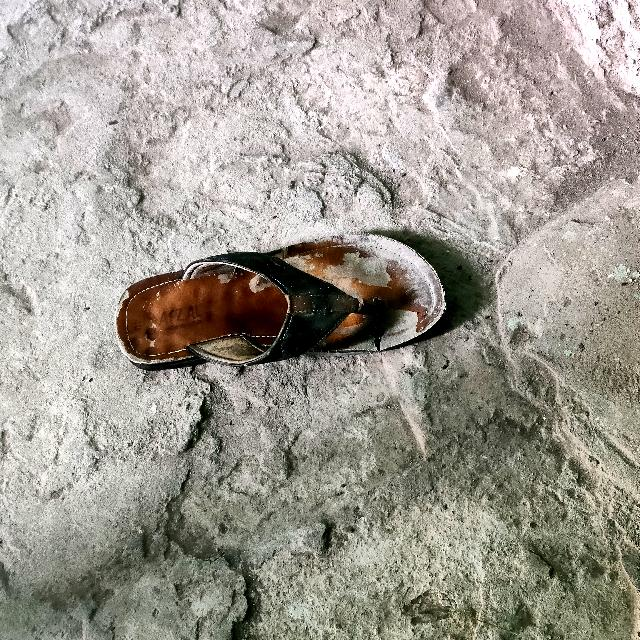sandal: (104, 209, 491, 381)
